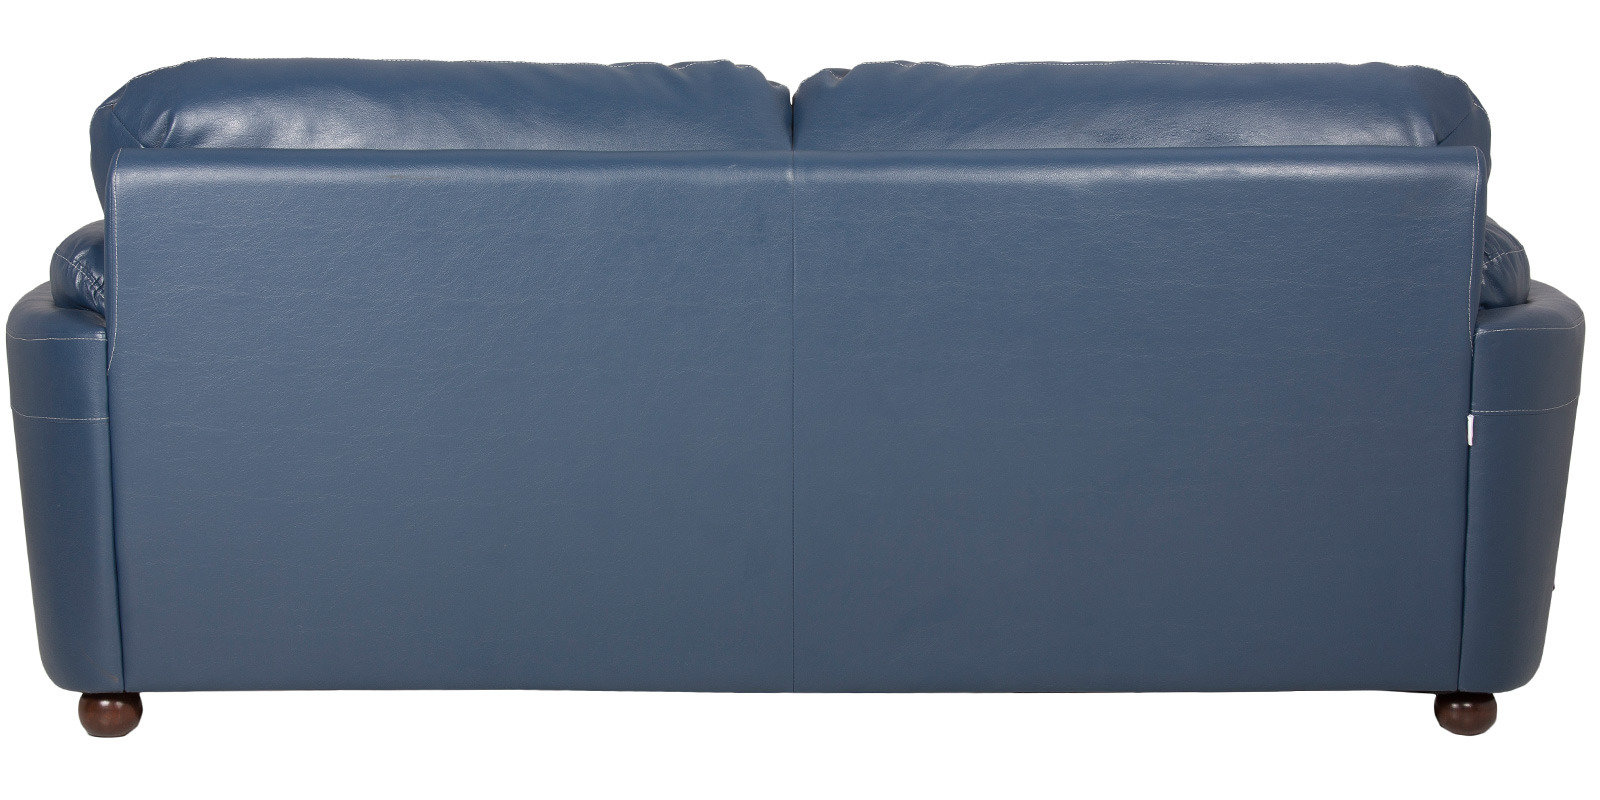Glassgow Heaven Three Seater Sofa with Throw Cushions in Blue Colour by Urban Li: (10, 37, 1587, 787)
